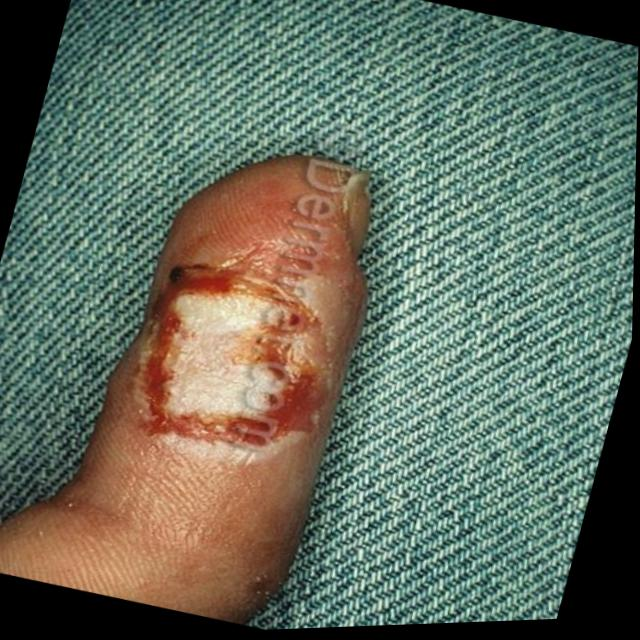Shingles: (115, 216, 370, 478)
